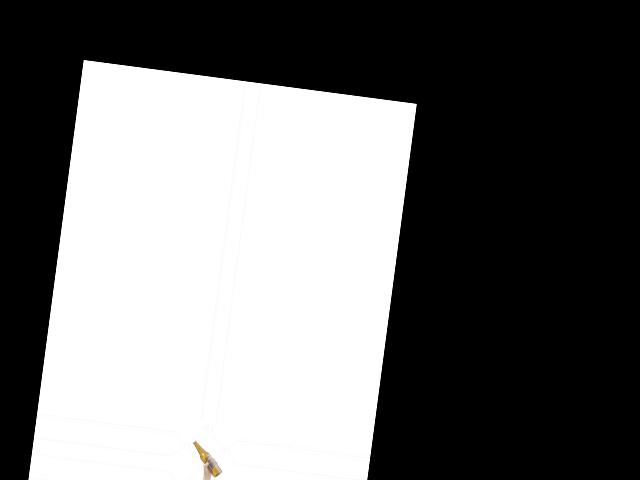beer: (189, 440, 226, 478)
